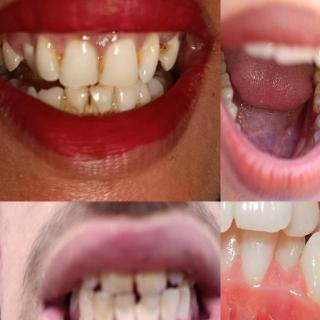calculus: (134, 270, 164, 292), (95, 296, 119, 320), (80, 91, 102, 117), (116, 294, 138, 320), (100, 274, 131, 292), (105, 86, 124, 112), (53, 95, 77, 115), (77, 294, 95, 320), (179, 290, 194, 320), (135, 302, 157, 320), (160, 300, 177, 320)
cavities: (154, 40, 174, 59)
maligned: (296, 222, 320, 310), (278, 202, 320, 230), (20, 38, 44, 77)
stains: (49, 48, 70, 76), (89, 50, 109, 76), (131, 48, 149, 72), (310, 136, 320, 146), (314, 100, 320, 114), (313, 118, 320, 129)
